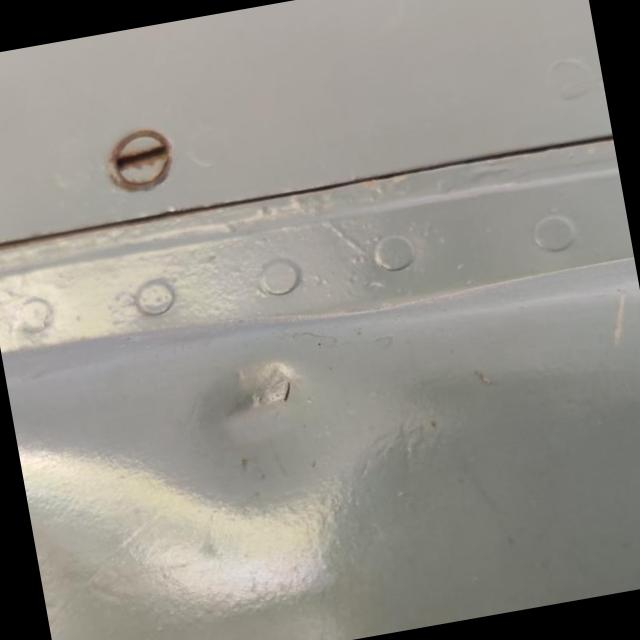Dent: (187, 350, 334, 477)
